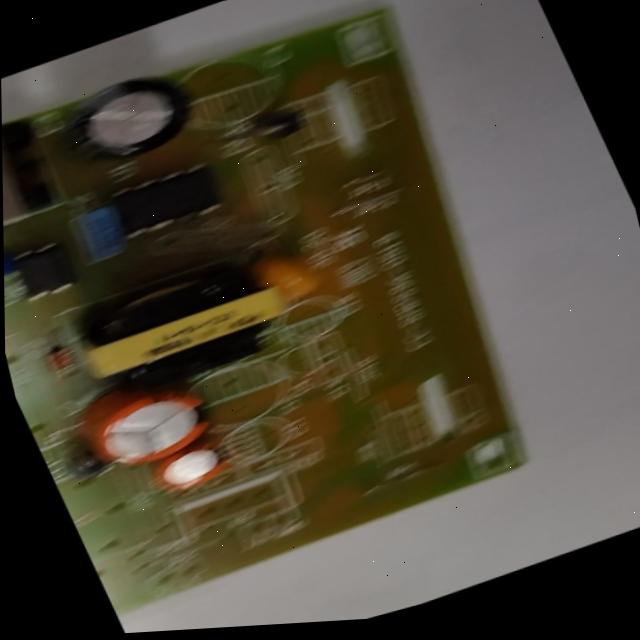Cap1: (77, 372, 221, 482)
Cap2: (146, 434, 237, 500)
Cap3: (61, 61, 198, 178)
MOSFET: (105, 156, 231, 247)
Mov: (4, 246, 12, 287)
Transformer: (65, 247, 297, 410), (1, 95, 68, 234)
